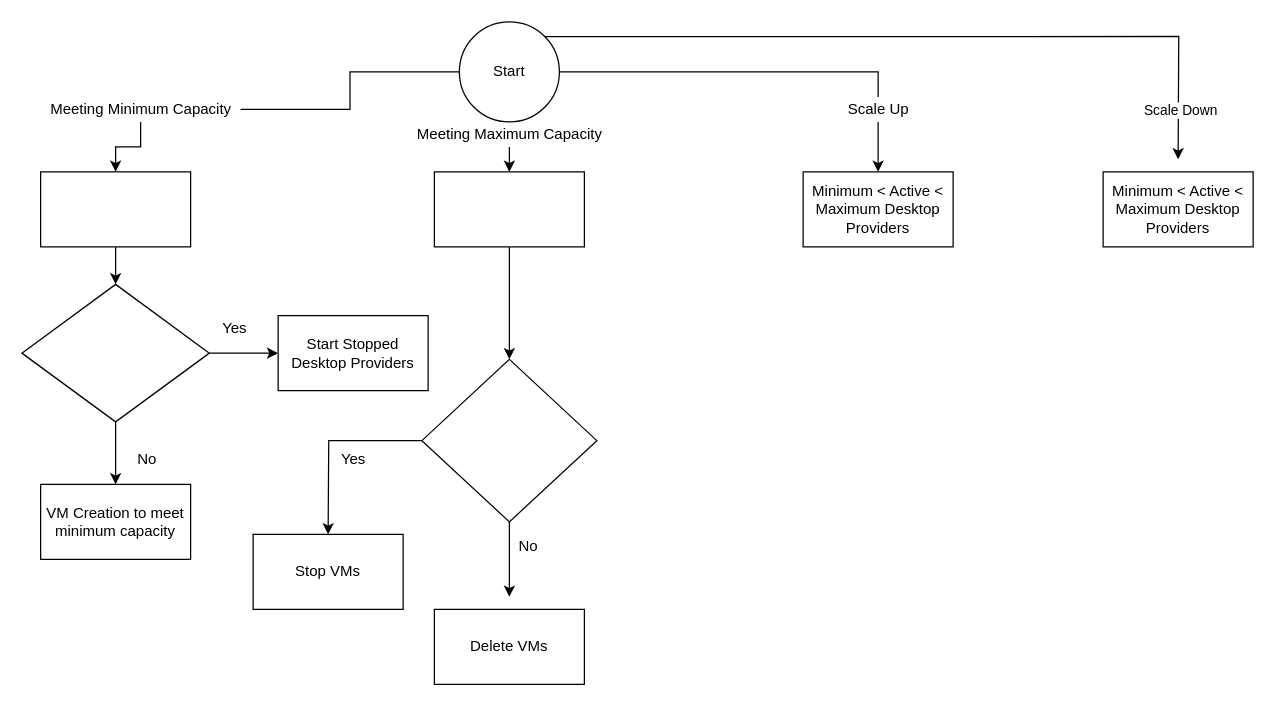
The diagram is 1275 pixels wide and 706 high, and some of its shapes have lost their labels. The centre of each missing label's shape, as x and y in pixels:
"Active Desktop Providers < Minimum Capacity" belongs at point (115, 209).
"Active Desktop Providers > Max Capacity" belongs at point (508, 209).
"Maximum Capacity < Scaling Optimizer" belongs at point (509, 440).
"Minimum Capacity < Scaling Optimizer" belongs at point (115, 352).
